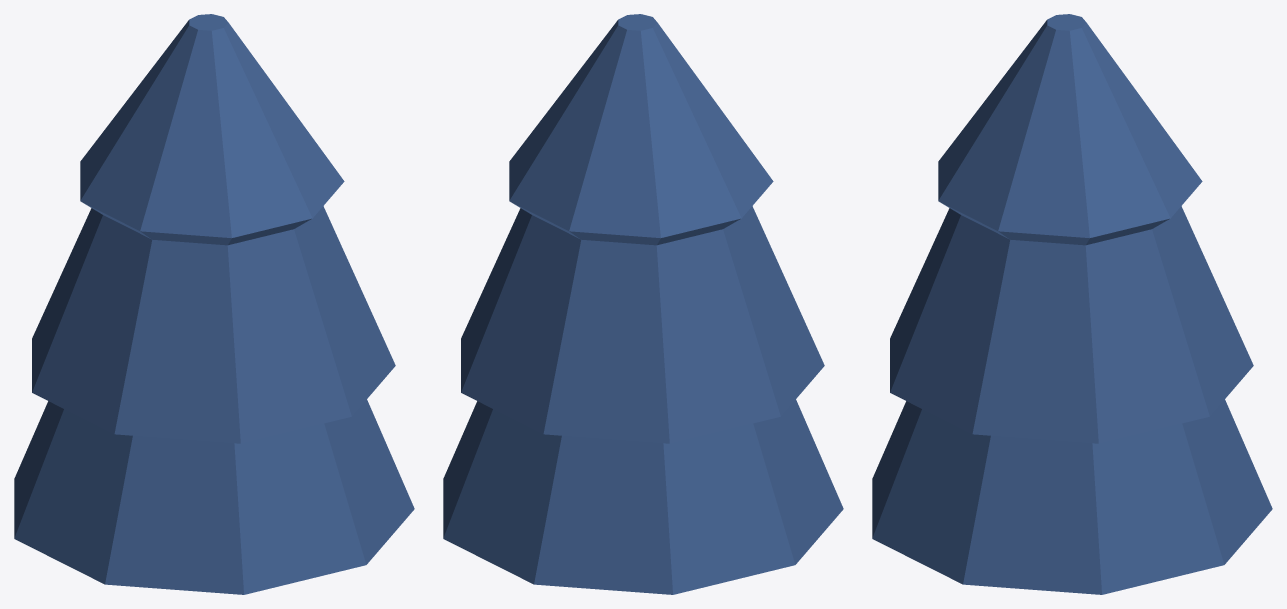
Rendered from tree-winter-leaves-001.glb.
3 renders of one model, left to right at view 1: azimuth 30°, elevation 25°; view 2: azimuth 150°, elevation 25°; view 3: azimuth 270°, elevation 25°, orthographic.
Parts seen in each view (by area): view 1: Circle.046_118; view 2: Circle.046_118; view 3: Circle.046_118.
Boxes of the visible parts, box(x1,y1,x2,y2) form: Circle.046_118: box(14, 14, 414, 594); Circle.046_118: box(443, 14, 843, 594); Circle.046_118: box(872, 14, 1272, 594).
Bounding box in the file's own units: 0.6484 × 0.8559 × 0.6386.
